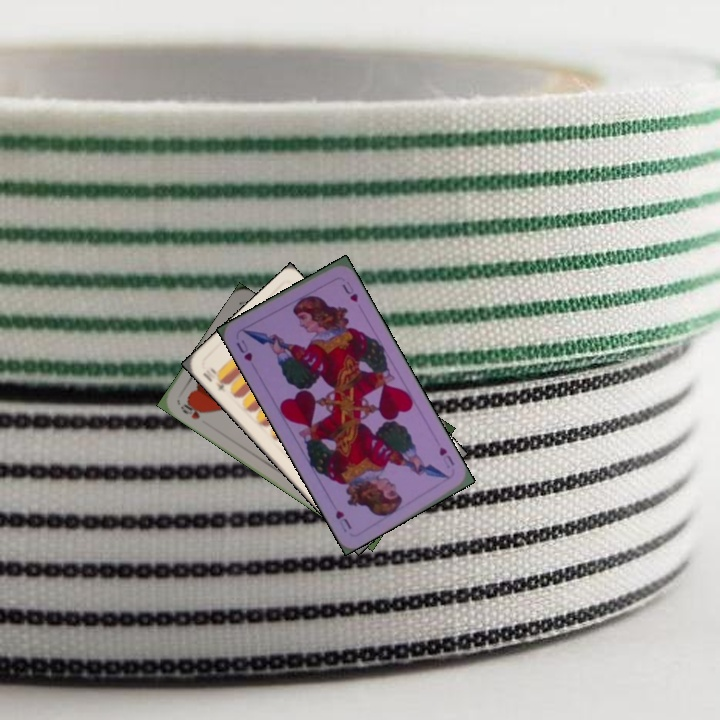E10: (206, 363, 231, 395)
HO: (176, 397, 208, 422)
HU: (232, 335, 255, 364), (435, 443, 457, 471)
